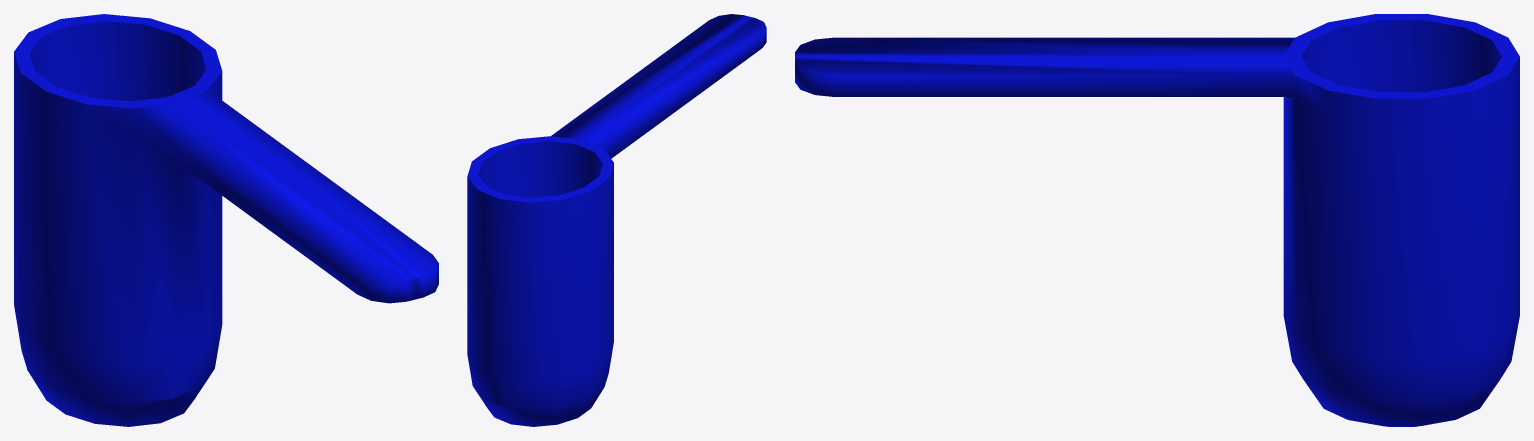
Rendered from sendok kecil.fbx.
The picture shows the model from 3 angles, left to right: view 1: azimuth 30°, elevation 25°; view 2: azimuth 150°, elevation 25°; view 3: azimuth 270°, elevation 25°; orthographic projection. The views are drawn at different scales.
Parts seen in each view (by area): view 1: Cylinder.044; view 2: Cylinder.044; view 3: Cylinder.044.
Boxes of the visible parts, x1,y1,x2,y2 form: Cylinder.044: (14,14,438,426); Cylinder.044: (467,14,766,426); Cylinder.044: (795,14,1519,426).
Bounding box in the file's own units: 35.01 × 67.54 × 126.
